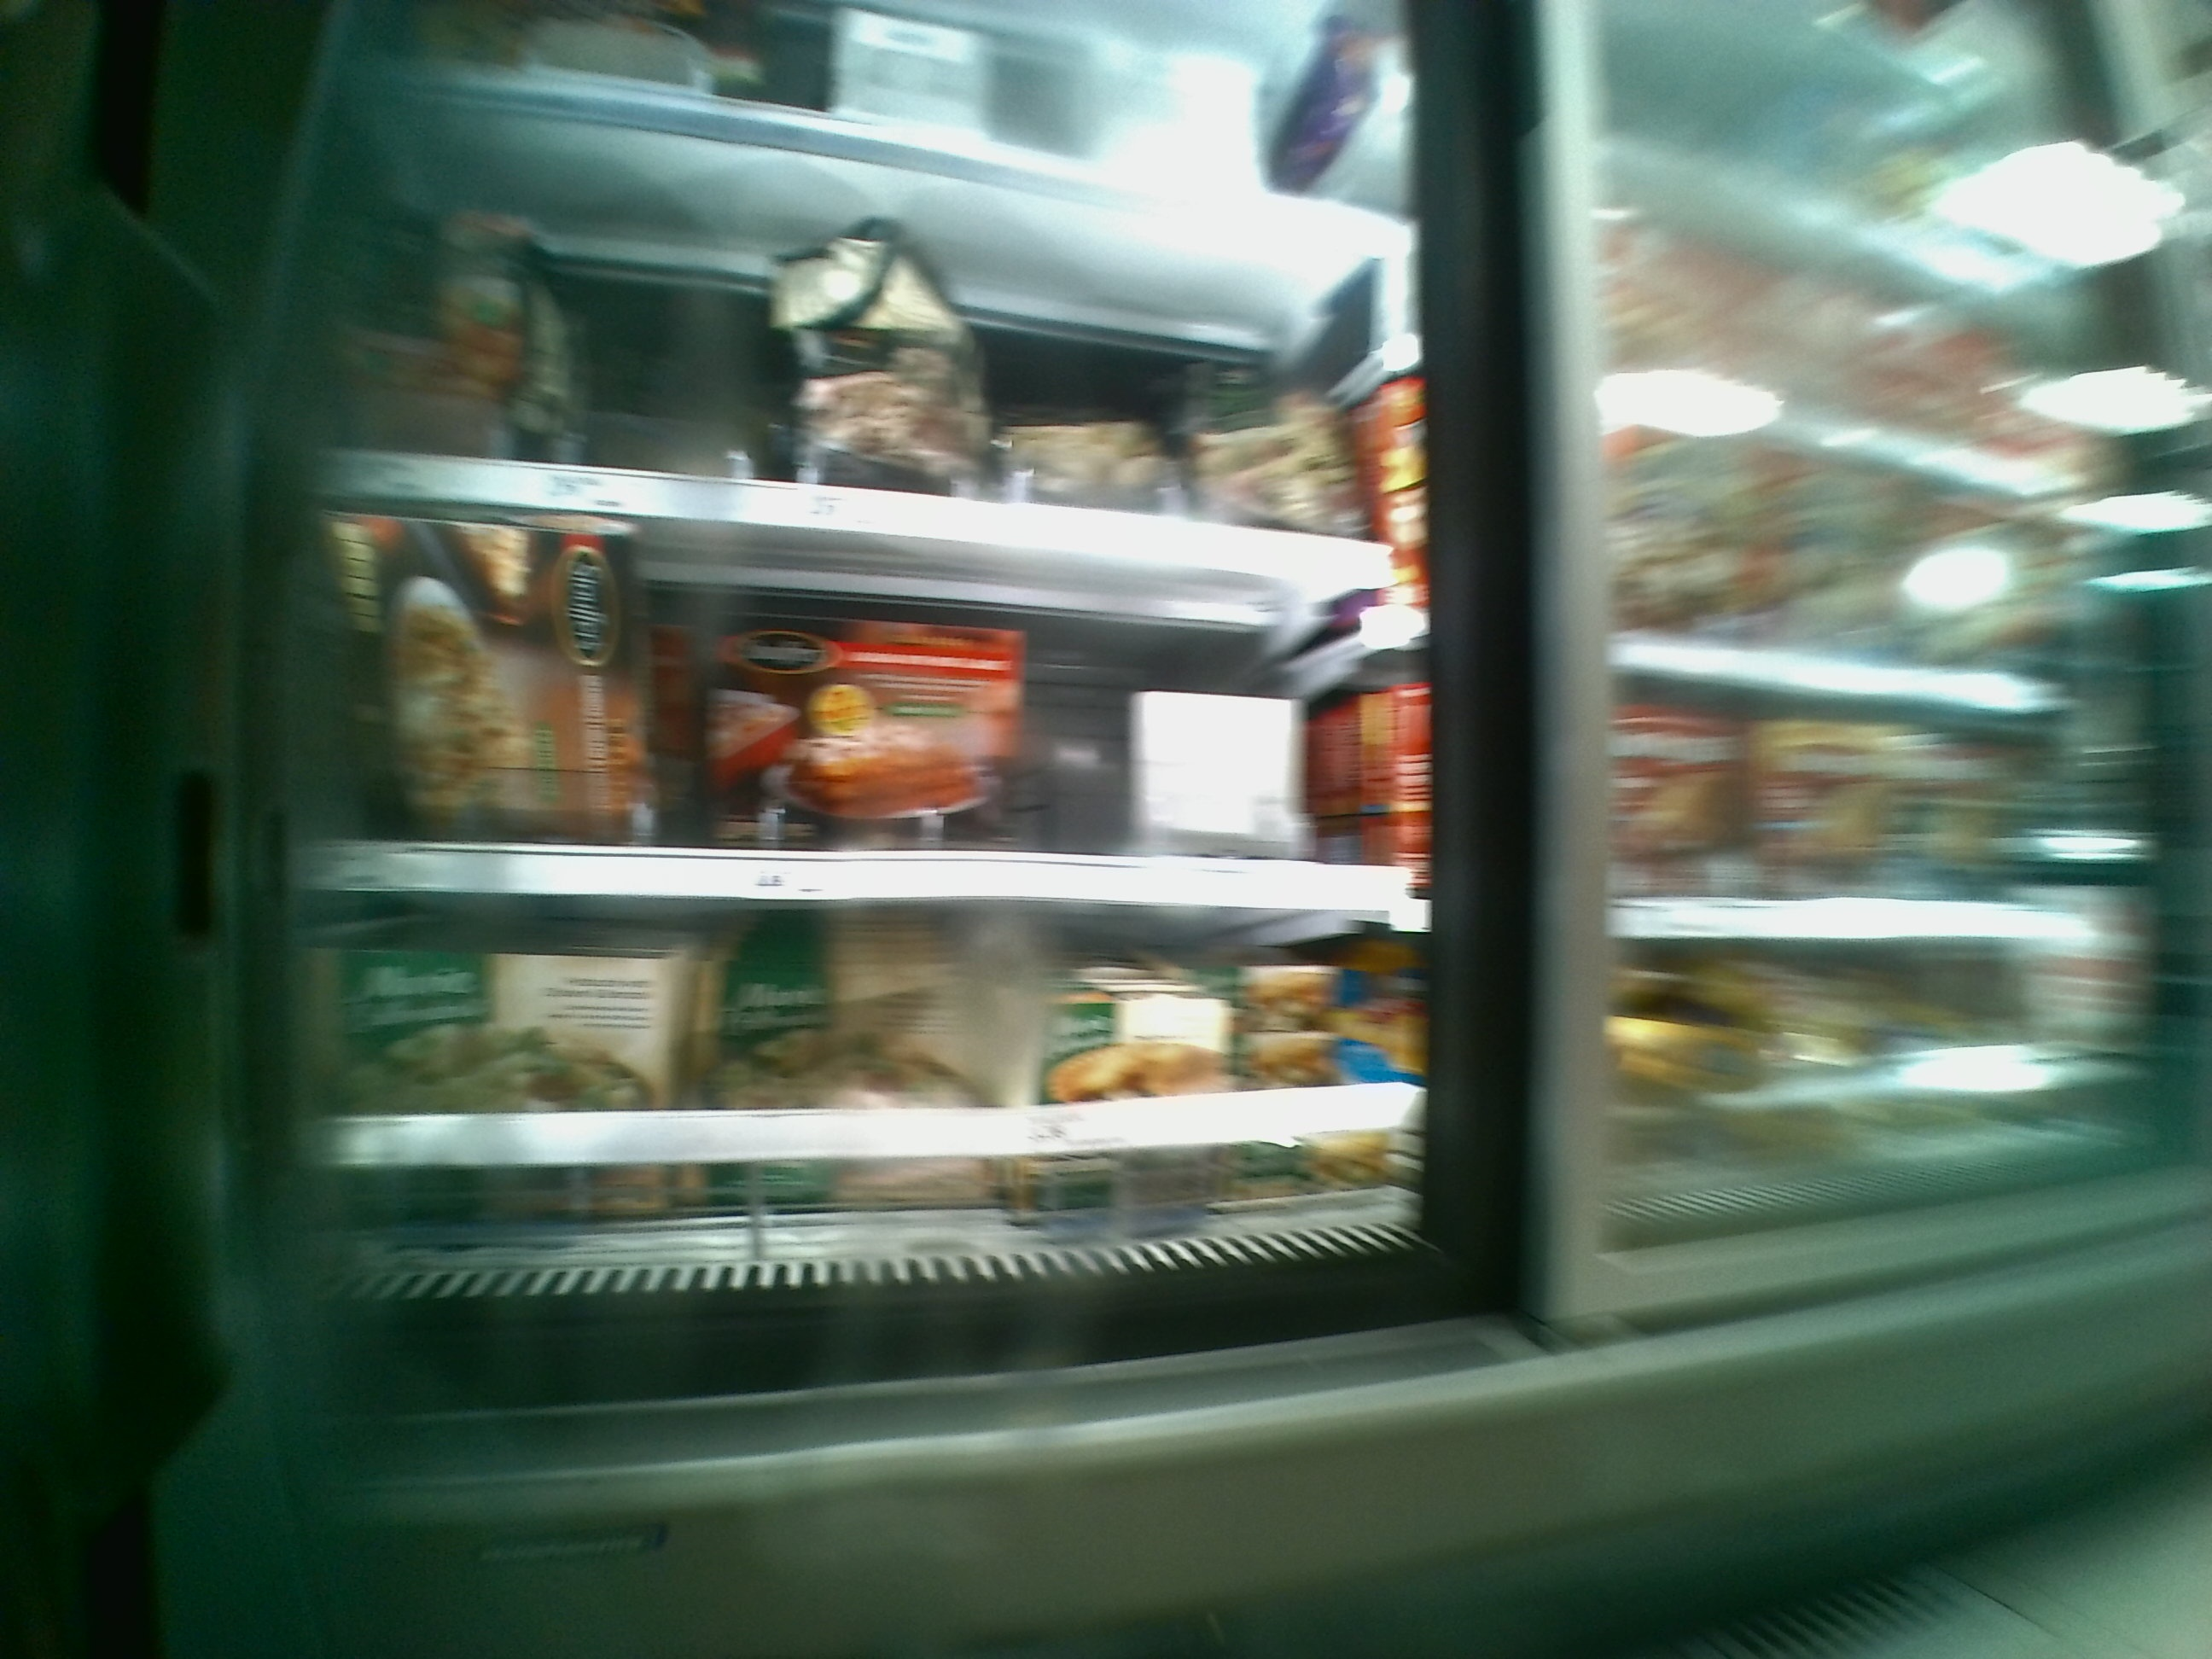shelf: (307, 556, 1421, 913), (334, 192, 1383, 545), (319, 910, 1411, 1244)
